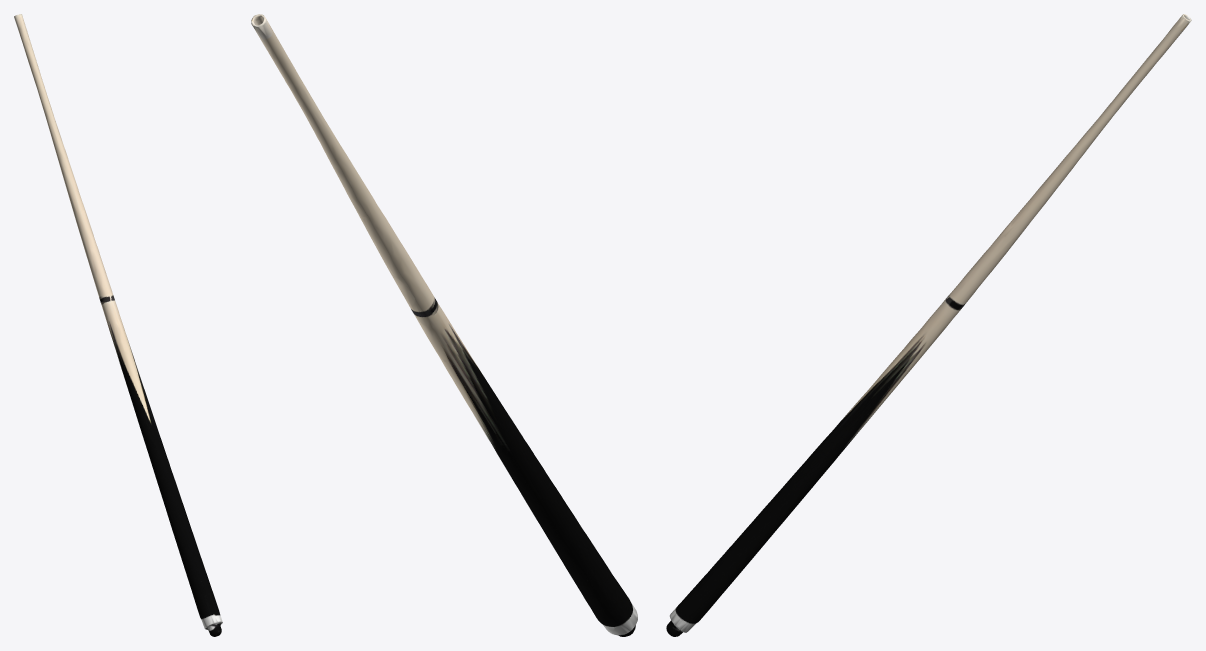
File: Pool_cue.fbx
3 views of the same model, side by side, from view 1: azimuth 30°, elevation 25°; view 2: azimuth 150°, elevation 25°; view 3: azimuth 270°, elevation 25° (orthographic). The views are drawn at different scales.
Visible parts, largest first — view 1: Mesh_0; view 2: Mesh_0; view 3: Mesh_0.
Part boxes in pixels (x1,y1,x2,y2): Mesh_0: (14,14,222,636); Mesh_0: (251,14,637,636); Mesh_0: (666,14,1191,636).
Size of the model in its own units: 7.28 by 191 by 146.
Materials: 1 (1 with a texture image).
